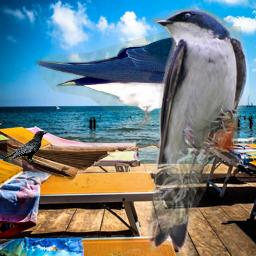Crow: (2, 131, 48, 163)
Swallow: (144, 7, 249, 251), (35, 26, 242, 128), (7, 104, 238, 188)
